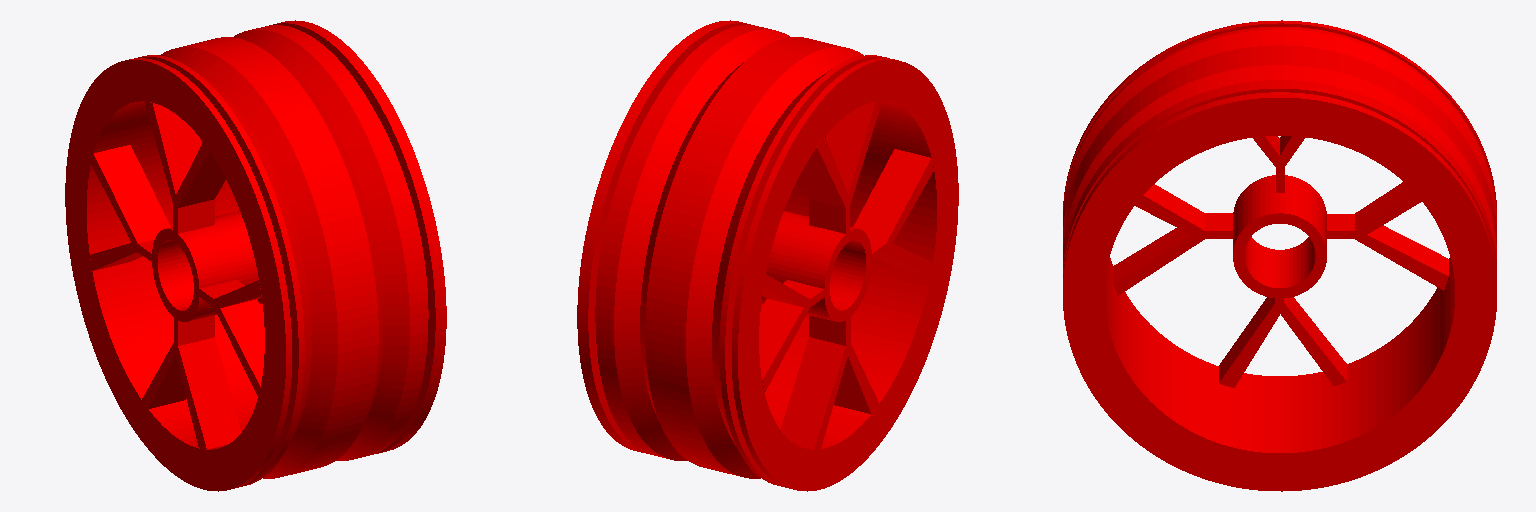
The robot description file, URDF, robot "rover":
<?xml version="1.0"?>
<robot name="rover" xmlns:xacro="http://ros.org/wiki/xacro">
<link name="base_footprint">
  <!-- While doing any change we need to do colcon build EVERY SINGLE TIME -->
</link>
  <link name="base">
  
    <visual>
      <geometry>
            <mesh filename="package://autonomous_rover/wheel_s.stl"  />
      </geometry>
      <material name="red">
        <color rgba="1 0 0 1" />
      </material>
    </visual>
  <inertial>
            <mass value="1.1438" />
            <inertia ixx="0.126" ixy="0.0" ixz="0" 
            iyy="0.416" iyz="0" izz="0.481" />
    </inertial>
    <collision>
      <geometry>
          <box size="0.75 0.4 0.1"/>
      </geometry>
      
    </collision>
  </link>

  <joint name="base_joint" type="fixed">
    <parent link="base_footprint"/>
    <child link="base"/>
    <origin rpy="0 0 0" xyz="0 0 0.135"/>
  </joint>

<!-- 
  <link name="upper_body">
  
    <visual>
      <geometry>
            <mesh filename="package://autonomous_rover/upper_body.stl" scale="0.005 0.005 0.005" />
      </geometry>
      <material name="blue">
        <color rgba="0 0 1 1" />
      </material>
    </visual>
  <inertial>
            <mass value="1.1438" />
            <inertia ixx="0.126" ixy="0.0" ixz="0" 
            iyy="0.416" iyz="0" izz="0.481" />
    </inertial>
    <collision>
      <geometry>
          <box size="0.75 0.4 0.1"/>
      </geometry>
      
    </collision>
  </link>

  <joint name="upper_body_joint" type="fixed">
    <parent link="base"/>
    <child link="upper_body"/>
    <origin rpy="1.57 0 0" xyz="0 0.08 0.12"/>
  </joint>

    <link name="camera">
  
    <visual>
      <geometry>
            <mesh filename="package://autonomous_rover/camera.stl" scale="0.005 0.005 0.005" />
      </geometry>
      <material name="while">
        <color rgba="1 1 1 1" />
      </material>
    </visual>
  <inertial>
            <mass value="1.1438" />
            <inertia ixx="0.126" ixy="0.0" ixz="0" 
            iyy="0.416" iyz="0" izz="0.481" />
    </inertial>
    <collision>
      <geometry>
          <box size="0.75 0.4 0.1"/>
      </geometry>
      
    </collision>
  </link>

  <joint name="camera_joint" type="fixed">
    <parent link="upper_body"/>
    <child link="camera"/>
    <origin rpy="1.57  0 1.57" xyz="0 0.15 -0.02"/>
  </joint>


      <link name="lidar">
  
    <visual>
      <geometry>
            <mesh filename="package://autonomous_rover/lidar.stl" scale="0.005 0.005 0.005" />
      </geometry>
      <material name="while">
        <color rgba="1 1 1 1" />
      </material>
    </visual>
  <inertial>
            <mass value="1.1438" />
            <inertia ixx="0.126" ixy="0.0" ixz="0" 
            iyy="0.416" iyz="0" izz="0.481" />
    </inertial>
    <collision>
      <geometry>
          <box size="0.75 0.4 0.1"/>
      </geometry>
      
    </collision>
  </link>

  <joint name="lidar_joint" type="fixed">
    <parent link="upper_body"/>
    <child link="lidar"/>
      <origin rpy="0 -1.57 0" xyz="0 0.05 -0.34"/>
  </joint>

  <link name="wheel_right_front">
    <inertial>
            <mass value="2" />
            <inertia ixx="0.126" ixy="0.0" ixz="0" 
            iyy="0.1416" iyz="0" izz="0.12481" />
    </inertial>

    <visual>
      
      <geometry>
        <mesh filename="package://autonomous_rover/wheel.stl"  scale="0.005 0.005 0.005"/> 
      </geometry>
      <material name="black">
        <color rgba="0 0 0 1"/>
      </material>
    </visual>

    <collision>
    
      <geometry>
          <cylinder radius="0.15" length="0.1"/>
      </geometry>
      <contact_coefficients mu="1" kp="1e+13" kd="1.0"/>
    </collision>
  </link>

  <joint name="wheel_right_front_joint" type="continuous">
  <axis xyz="1 0.0 0.0"/>
    <origin xyz="0.42 0.31 -0.11" rpy="0 0.0 0.0"/>
    <parent link="base"/>
    <child link="wheel_right_front"/>
    <axis xyz="0.0 0.0 1.0"/>
  </joint>


  <link name="wheel_left_front">
    <inertial>
            <mass value="2" />
            <inertia ixx="0.126" ixy="0.0" ixz="0" 
            iyy="0.1416" iyz="0" izz="0.12481" />
    </inertial>

    <visual>
      
      <geometry>
        <mesh filename="package://autonomous_rover/wheel.stl"  scale="0.005 0.005 0.005"/>
      </geometry>
      <material name="black">
        <color rgba="0 0 0 1"/>
      </material>
    </visual>

    <collision>
    
      <geometry>
          <cylinder radius="0.15" length="0.1"/>
      </geometry>
      <contact_coefficients mu="1" kp="1e+13" kd="1.0"/>
    </collision>
  </link>

  <joint name="wheel_left_front_joint" type="continuous">
  <axis xyz="1 0.0 0.0"/>
    <origin xyz="-0.42 0.31 -0.11" rpy="0 0.0 3.14"/>
    <parent link="base"/>
    <child link="wheel_left_front"/>
    <axis xyz="0.0 0.0 1.0"/>
  </joint>



  <link name="wheel_right_back">
    <inertial>
            <mass value="2" />
            <inertia ixx="0.126" ixy="0.0" ixz="0" 
            iyy="0.1416" iyz="0" izz="0.12481" />
    </inertial>

    <visual>
      
      <geometry>
        <mesh filename="package://autonomous_rover/wheel.stl"  scale="0.005 0.005 0.005"/> 
      </geometry>
      <material name="black">
        <color rgba="0 0 0 1"/>
      </material>
    </visual>

    <collision>
    
      <geometry>
          <cylinder radius="0.15" length="0.1"/>
      </geometry>
      <contact_coefficients mu="1" kp="1e+13" kd="1.0"/>
    </collision>
  </link>

  <joint name="wheel_right_back_joint" type="continuous">
  <axis xyz="1 0.0 0.0"/>
    <origin xyz="0.42 -0.33 -0.11" rpy="0 0.0 0.0"/>
    <parent link="base"/>
    <child link="wheel_right_back"/>
    <axis xyz="0.0 0.0 1.0"/>
  </joint>


<link name="wheel_left_back">
    <inertial>
            <mass value="2" />
            <inertia ixx="0.126" ixy="0.0" ixz="0" 
            iyy="0.1416" iyz="0" izz="0.12481" />
    </inertial>

    <visual>
      
      <geometry>
        <mesh filename="package://autonomous_rover/wheel.stl"  scale="0.005 0.005 0.005"/>
      </geometry>
      <material name="black">
        <color rgba="0 0 0 1"/>
      </material>
    </visual>

    <collision>
    
      <geometry>
          <cylinder radius="0.15" length="0.1"/>
      </geometry>
      <contact_coefficients mu="1" kp="1e+13" kd="1.0"/>
    </collision>
  </link>

  <joint name="wheel_left_back_joint" type="continuous">
  <axis xyz="1 0.0 0.0"/>
    <origin xyz="-0.42 -0.33 -0.11" rpy="0 0.0 3.14"/>
    <parent link="base"/>
    <child link="wheel_left_back"/>
    <axis xyz="0.0 0.0 1.0"/>
  </joint>  -->
</robot>

--- Render facts (derived) ---
The picture shows the robot from 3 angles, left to right: view 1: azimuth 30°, elevation 25°; view 2: azimuth 150°, elevation 25°; view 3: azimuth 270°, elevation 25°; orthographic projection.
Robot: rover — 2 links, 1 joints (1 fixed); root link base_footprint; default pose: every joint at zero.
Links seen in each view (by area): view 1: base; view 2: base; view 3: base.
Boxes of the visible links, bbox=[...] form: base: bbox=[65, 20, 446, 491]; base: bbox=[577, 20, 958, 491]; base: bbox=[1063, 20, 1496, 491].
Bounding box of the posed robot: 0.1028 × 0.2451 × 0.2452 m (x, y, z).
1 mesh visuals loaded from 1 distinct referenced files (1 binary STL).